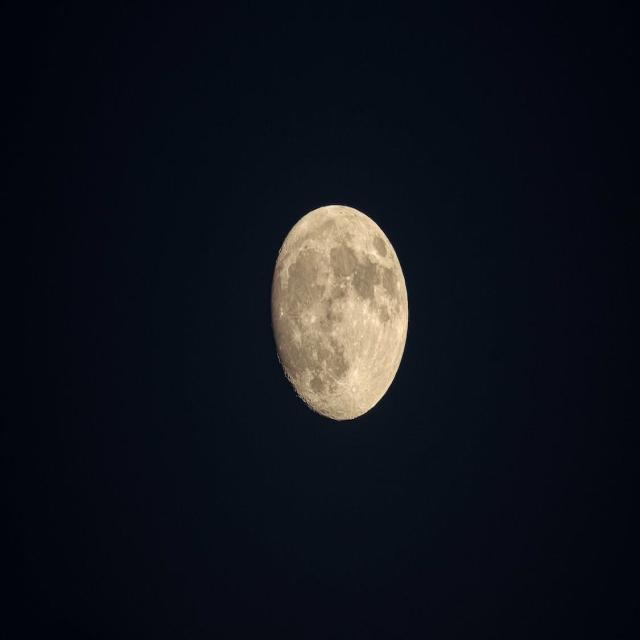moon: (263, 188, 420, 434)
